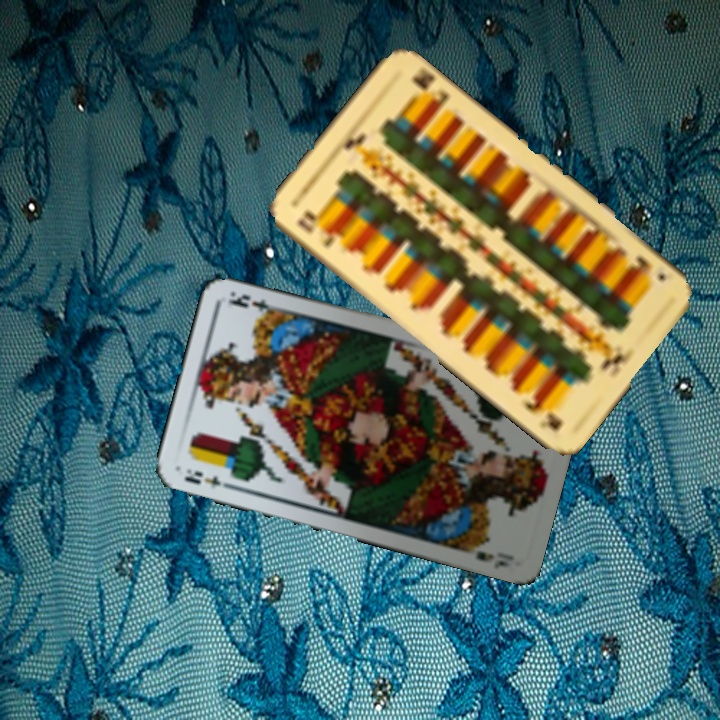E10: (293, 210, 337, 250), (628, 251, 669, 284)
EK: (180, 465, 236, 492)
